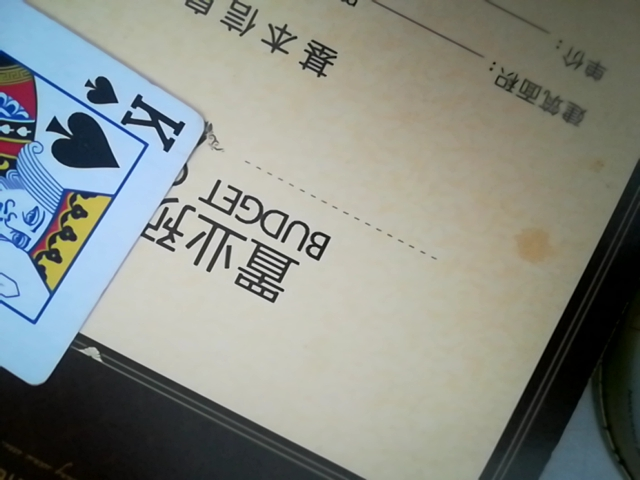ht k: (0, 0, 215, 397)
